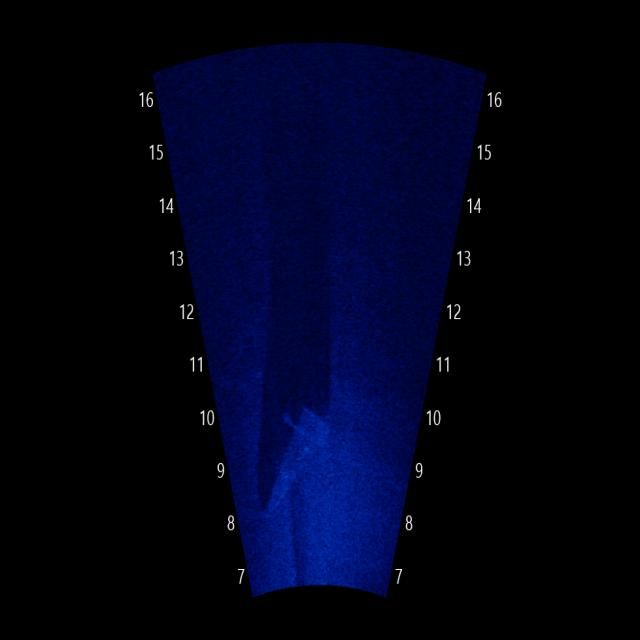triangle: (260, 392, 330, 527)
